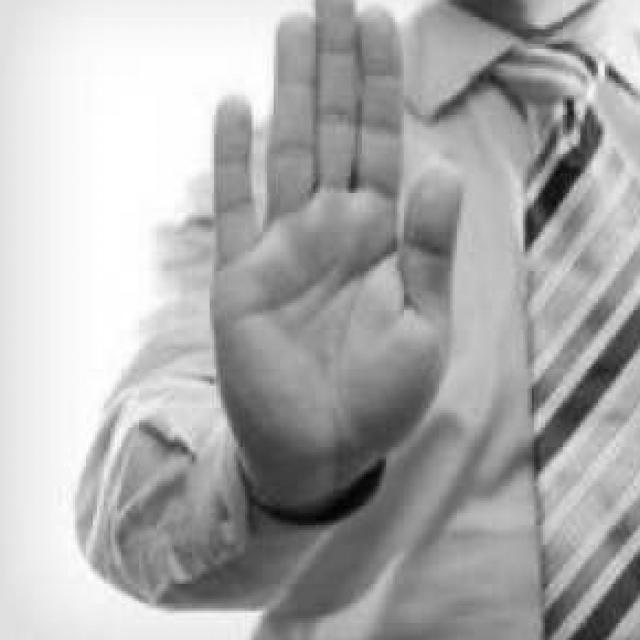stop: (203, 0, 470, 493)
